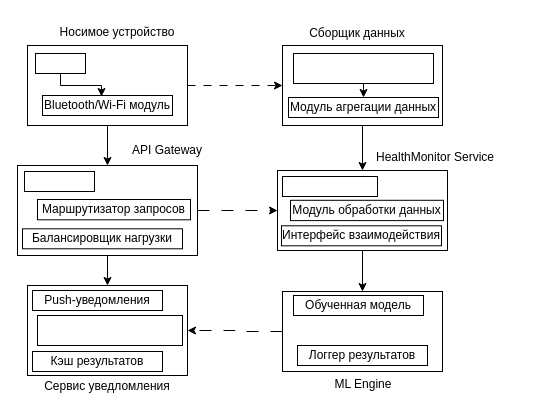
Image size: 533x418. Some labels were removed from this diagram. The shapes that lost their labels are listed below. From the top down, each one's centre as x and y in pixels, then its label:
At (x=60, y=63): "Датчики".
At (x=363, y=68): "REST API / WebSocket сервер".
At (x=59, y=181): "JWT-токены".
At (x=330, y=186): "FastAPI сервер".
At (x=109, y=330): "Интеграция с мессенджерами".
